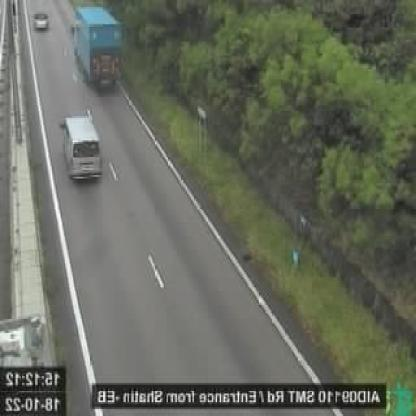Car: (60, 114, 104, 186), (30, 9, 50, 32)
Truck: (70, 9, 127, 94)
